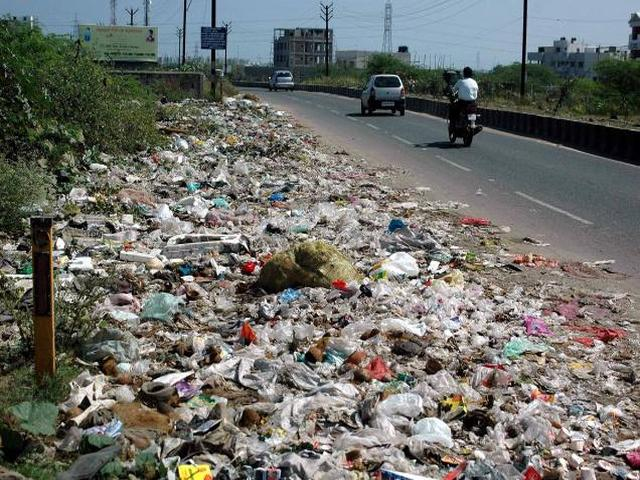garbage: (107, 247, 489, 469), (118, 163, 334, 246), (196, 110, 280, 167)
